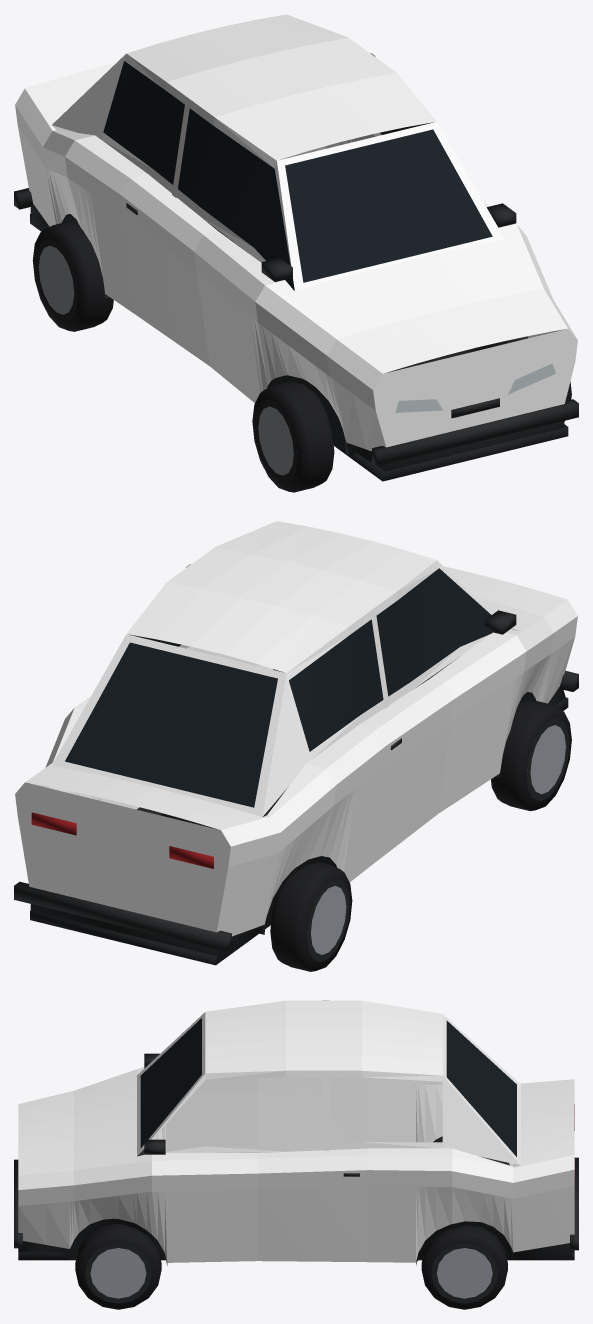
File: volnar_bolota.glb
3 renders of one model, top to bottom at view 1: azimuth 30°, elevation 25°; view 2: azimuth 150°, elevation 25°; view 3: azimuth 270°, elevation 25°, orthographic. The views are drawn at different scales.
Visible parts, largest first — view 1: Body_Paint, Body_Details, Mount_FrontLeft_Wheel_Details, Mount_RearLeft_Wheel_Details; view 2: Body_Paint, Body_Details, Mount_RearLeft_Wheel_Details, Mount_FrontLeft_Wheel_Details; view 3: Body_Paint, Body_Details, Mount_FrontRight_Wheel_Details, Mount_RearRight_Wheel_Details.
Boxes of the visible parts, left/top/right/bottom form: Body_Paint: left=15, top=14, right=577, bottom=451; Body_Details: left=14, top=61, right=578, bottom=481; Mount_FrontLeft_Wheel_Details: left=252, top=381, right=334, bottom=492; Mount_RearLeft_Wheel_Details: left=32, top=220, right=113, bottom=331; Body_Paint: left=15, top=521, right=577, bottom=936; Body_Details: left=14, top=568, right=578, bottom=965; Mount_RearLeft_Wheel_Details: left=270, top=862, right=352, bottom=971; Mount_FrontLeft_Wheel_Details: left=491, top=699, right=571, bottom=811; Body_Paint: left=18, top=1000, right=574, bottom=1262; Body_Details: left=14, top=1018, right=578, bottom=1265; Mount_FrontRight_Wheel_Details: left=75, top=1223, right=161, bottom=1309; Mount_RearRight_Wheel_Details: left=421, top=1225, right=507, bottom=1309.
Size of the model in its own units: 1.52 by 1.54 by 3.47.
2 materials, 1 textured.
